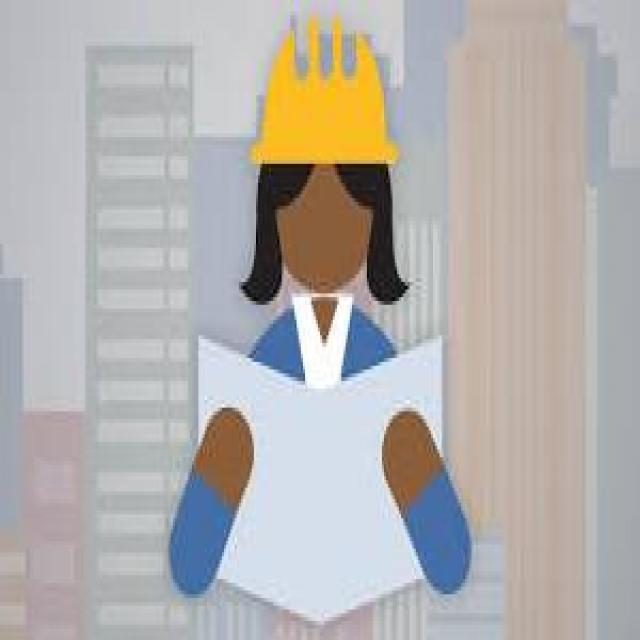Safety-Helmet: (248, 12, 403, 186)
